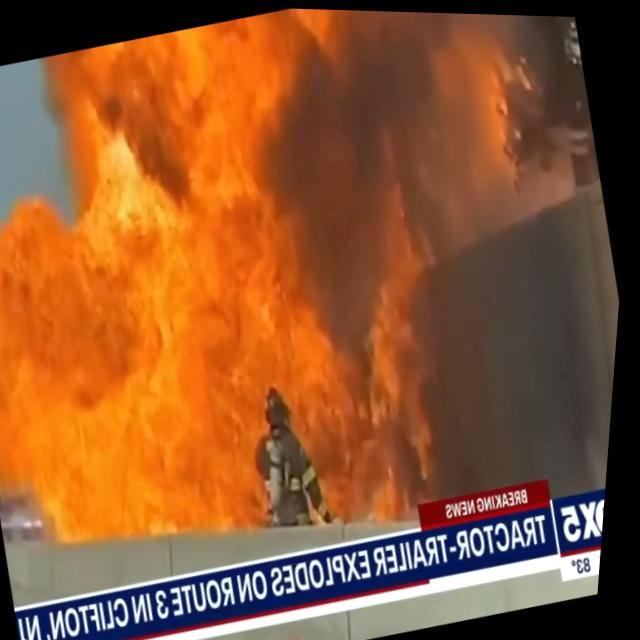fire: (59, 2, 499, 320), (0, 168, 272, 567), (260, 106, 482, 506), (198, 196, 339, 384)
